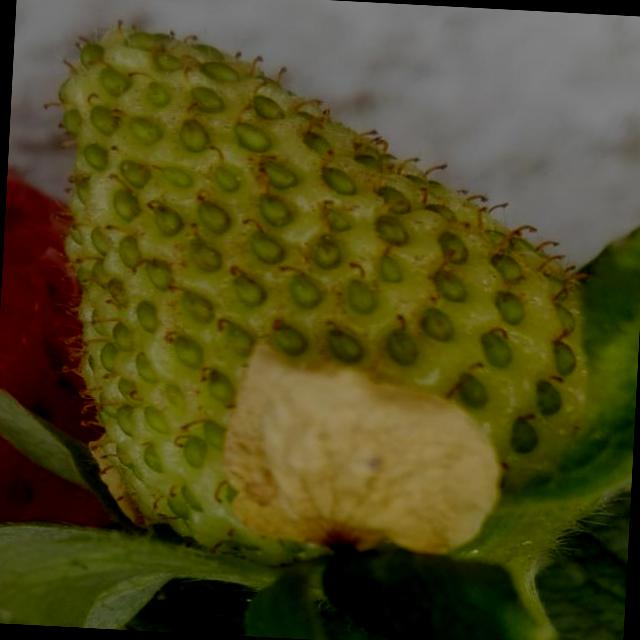Strawberry: (29, 22, 609, 616), (0, 167, 134, 550)
